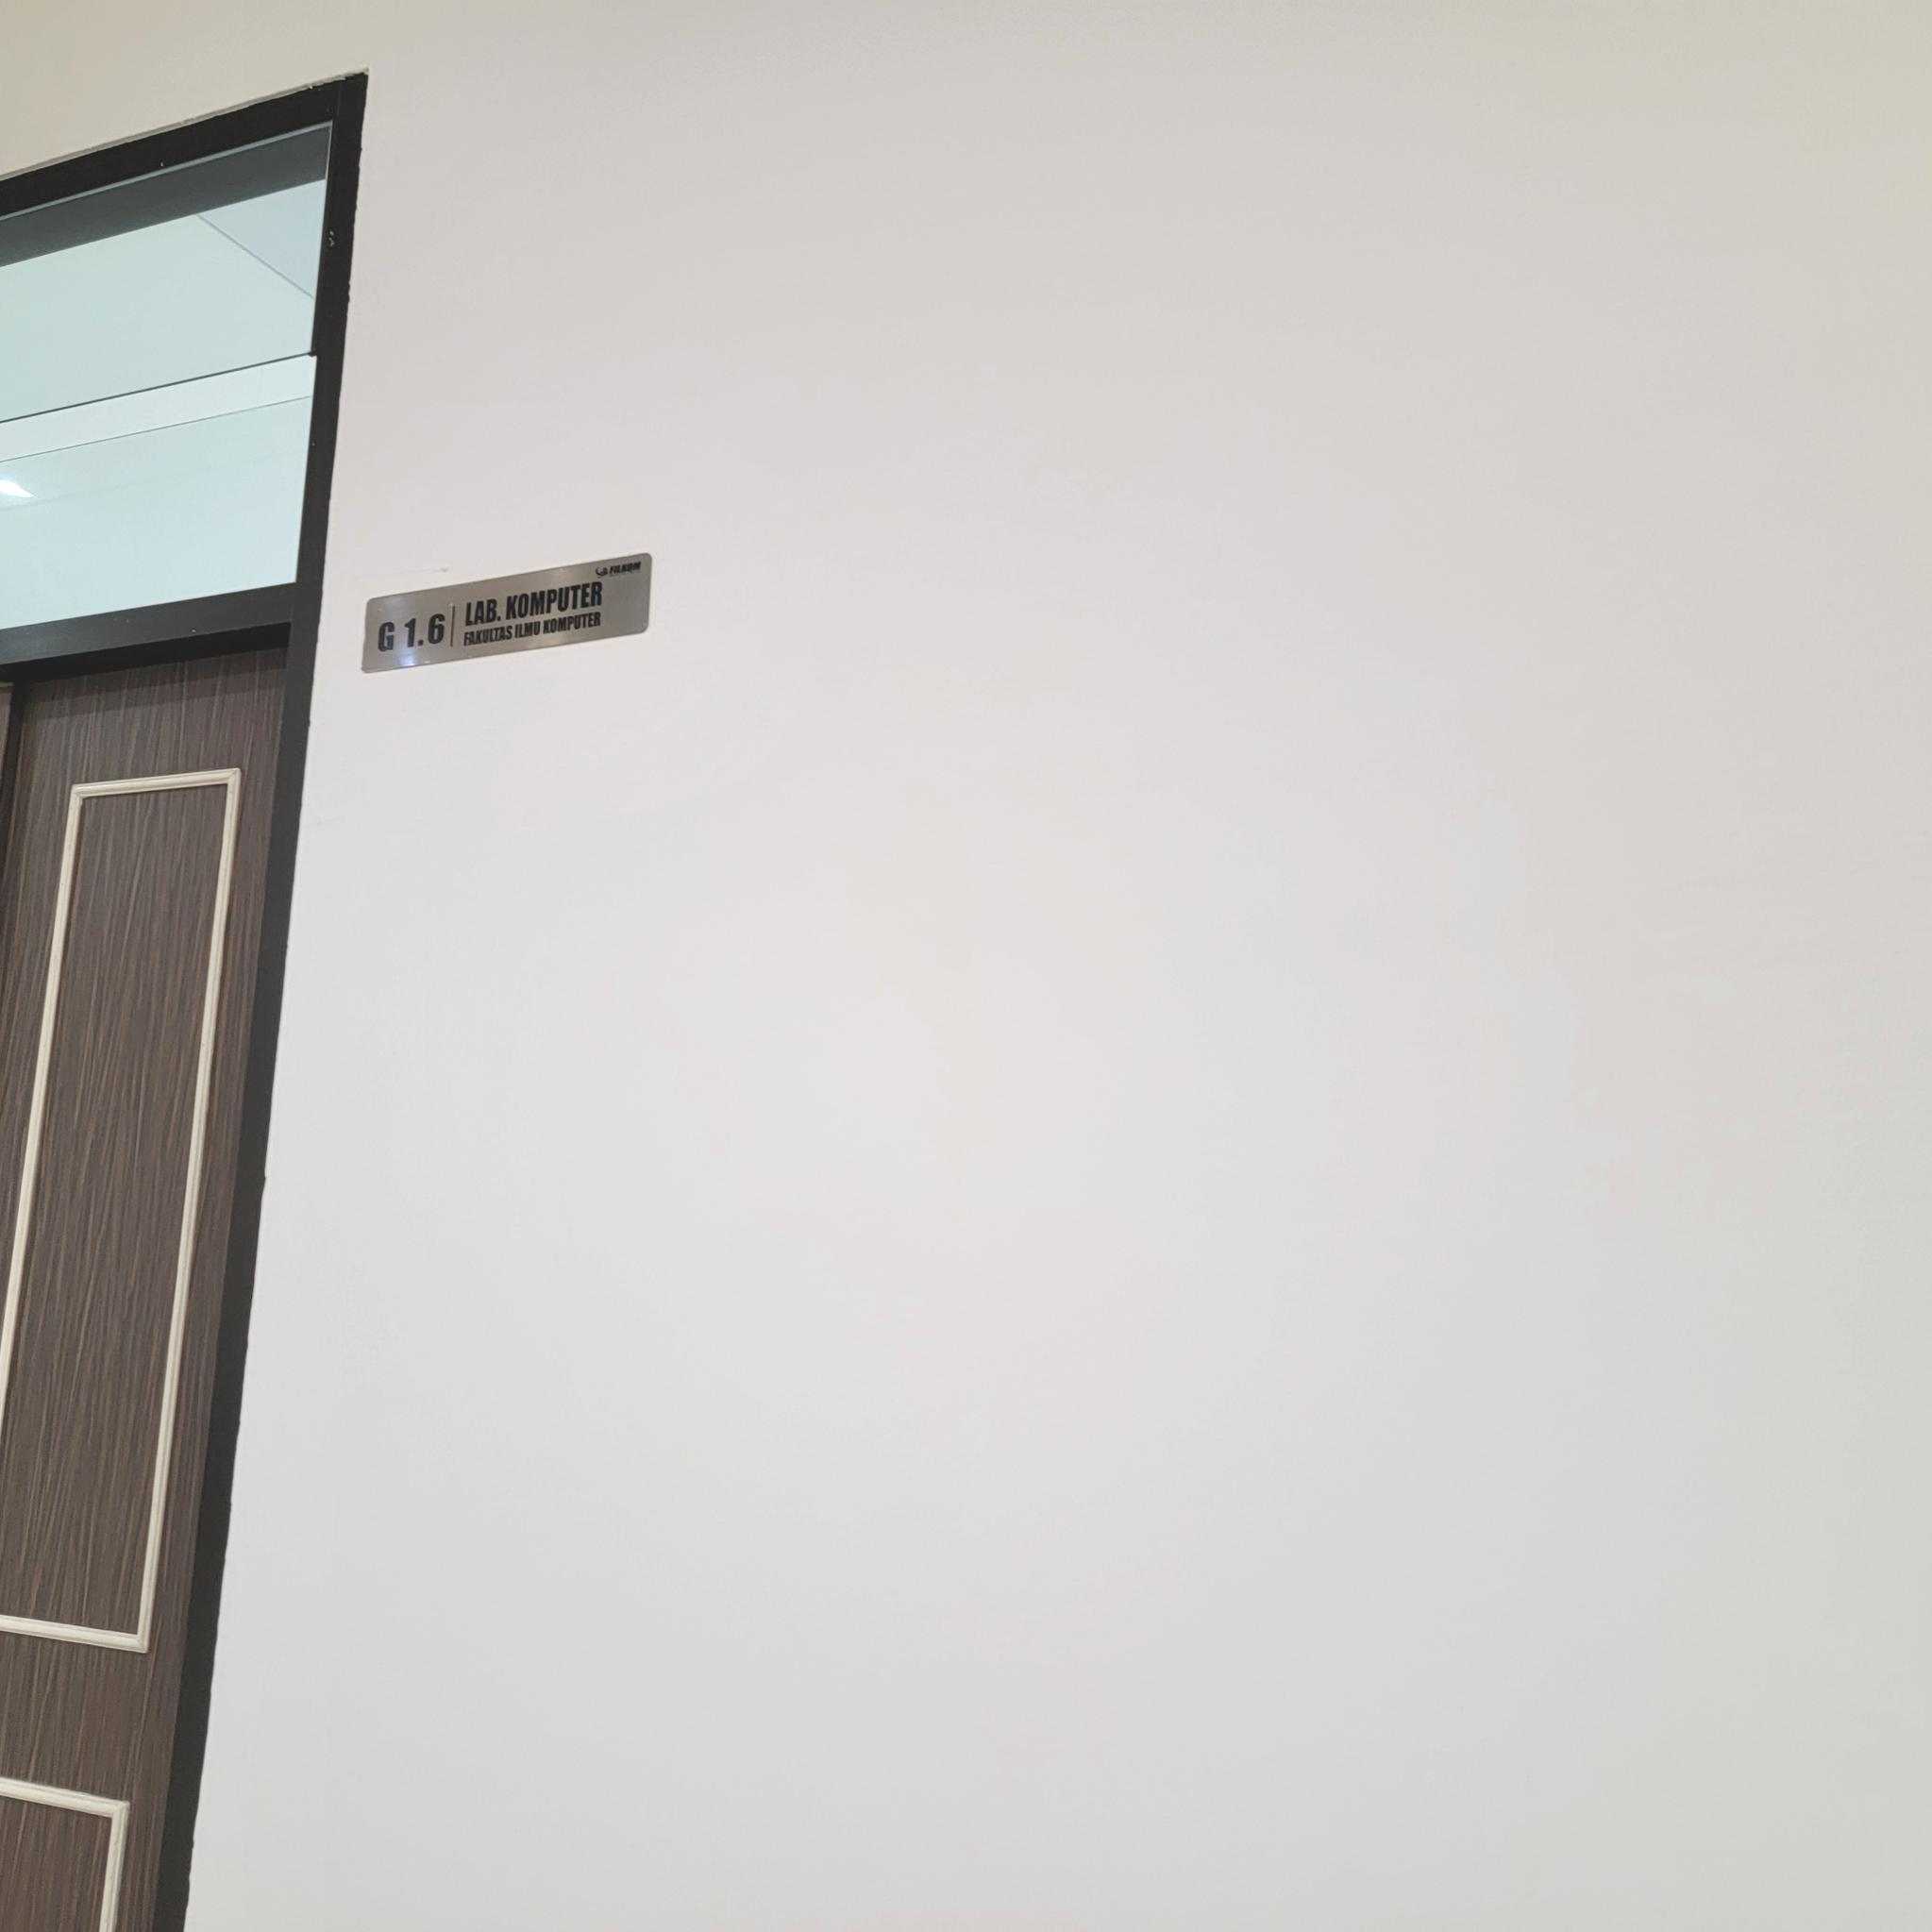plate: (361, 550, 653, 674)
